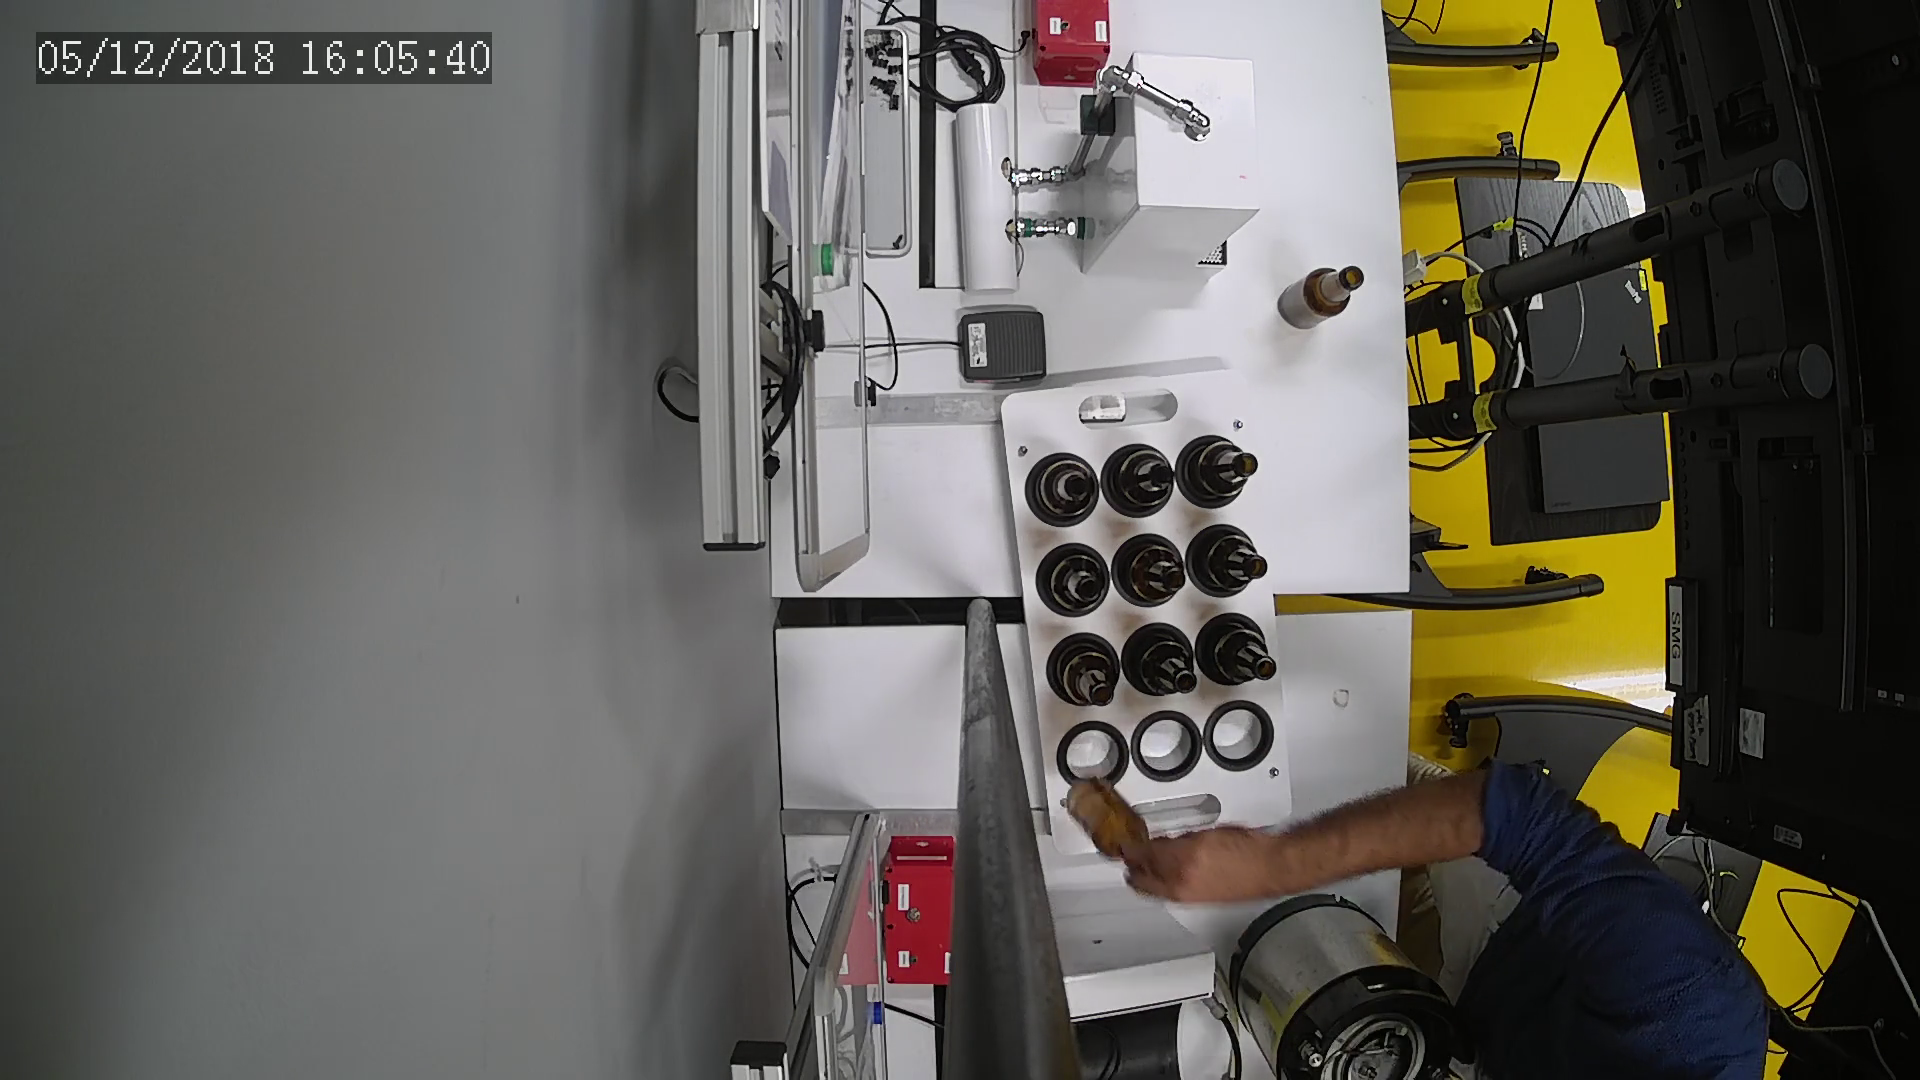filled_bottle: (1166, 415, 1265, 520), (1091, 434, 1185, 522), (1179, 522, 1276, 607), (1108, 530, 1191, 624), (1193, 609, 1283, 695), (1018, 443, 1104, 531), (1120, 620, 1199, 707), (1039, 541, 1118, 624), (1047, 626, 1124, 709)
trolley: (1000, 359, 1299, 857)
unfilled_bottle: (1269, 262, 1379, 328)
